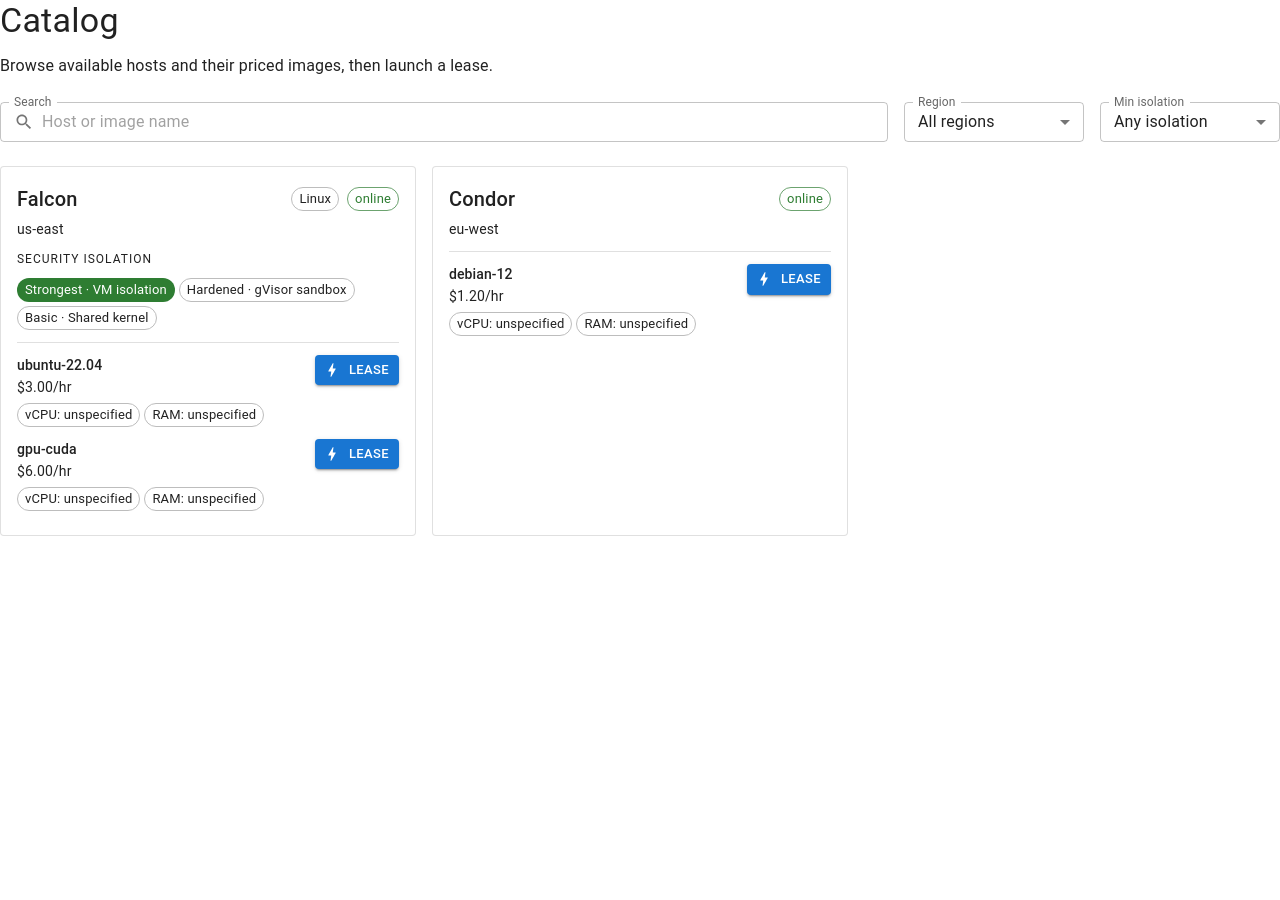
Test: CatalogBrowser › opens the Create Lease dialog for the chosen image
Check: the heading "Falcon" is shown, box 17,187 -> 78,211
Click the button "Lease" in the row of "ubuntu-22.04". click: click(357, 370)
box: 315,355 -> 399,386
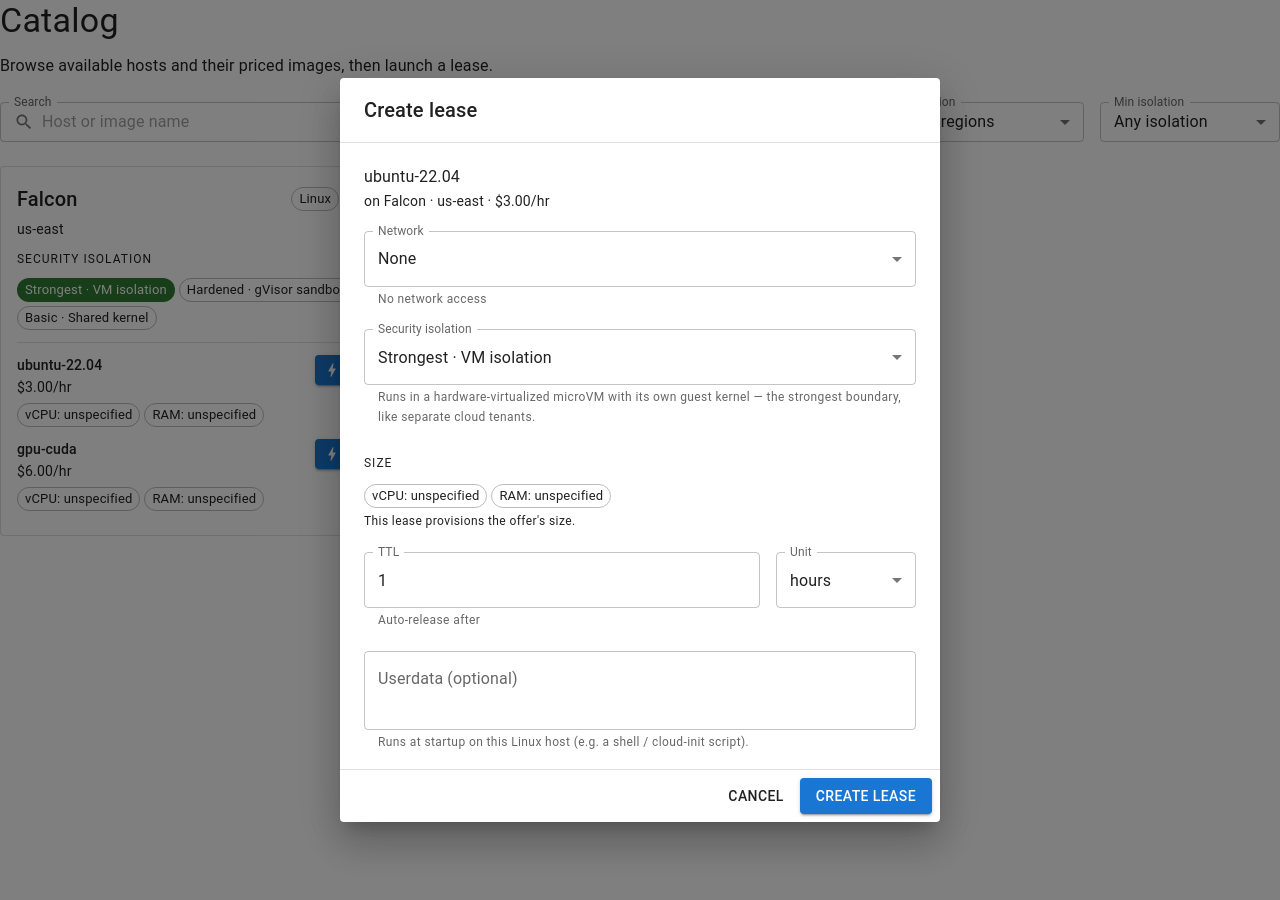
Check: the heading "Create lease" is shown, box 364,98 -> 477,122
Check: the text "on Falcon · us-east · $3.00/hr" is shown, box 364,193 -> 550,209
